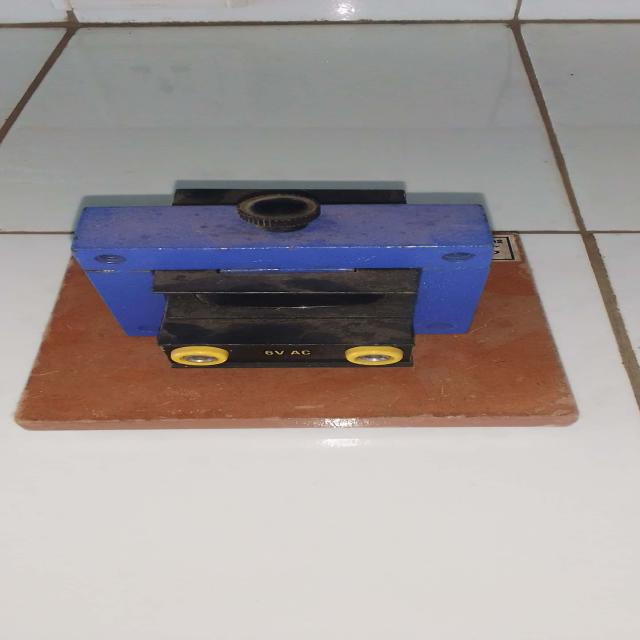Transformer Demo: (58, 176, 584, 434)
